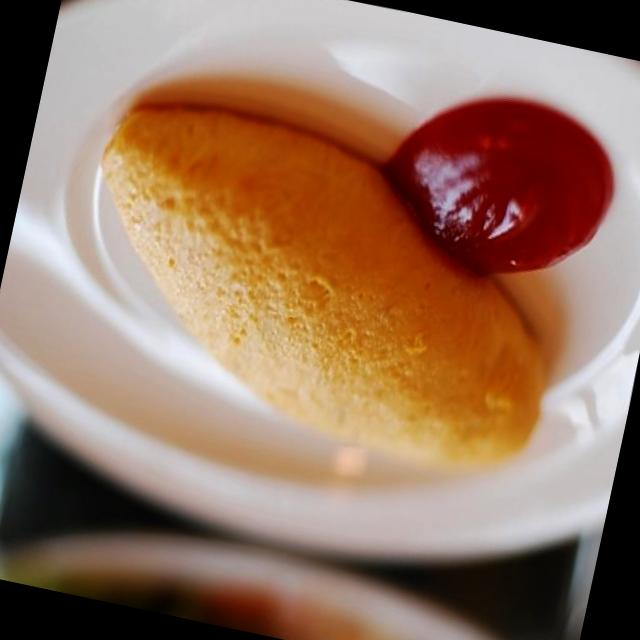Omelet: (53, 87, 592, 496)
Sauce: (371, 82, 624, 298)
